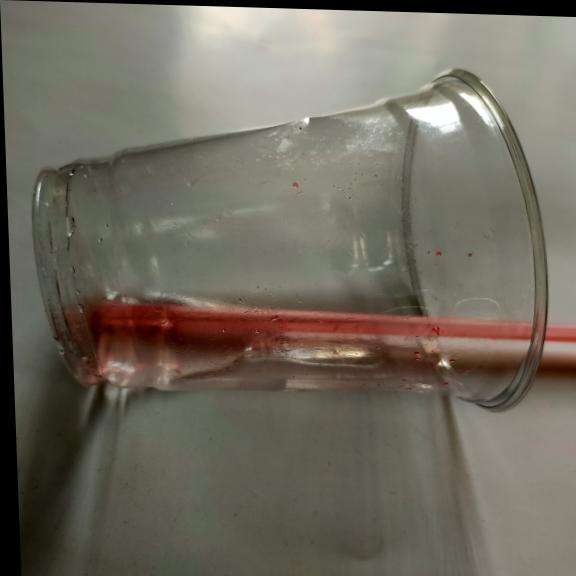Plastik: (33, 72, 547, 410)
